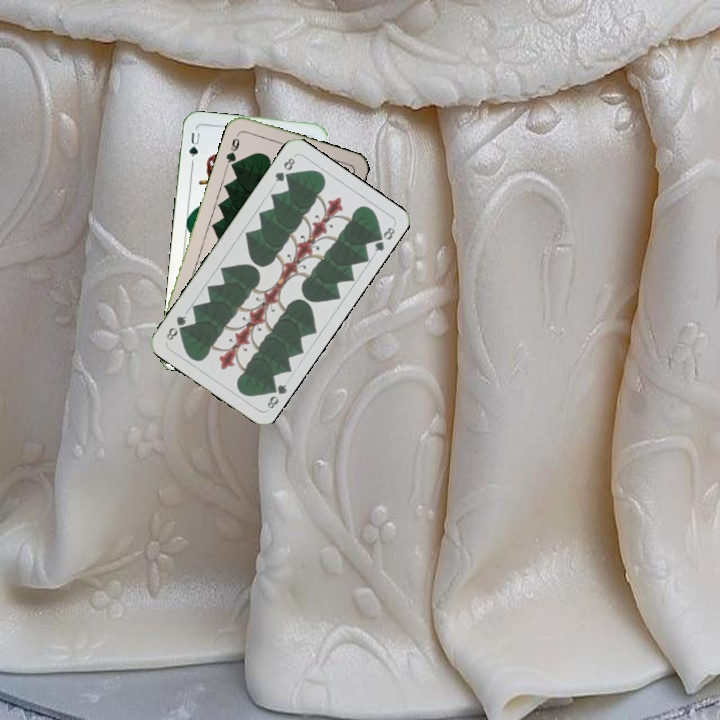G8: (271, 153, 298, 184), (263, 379, 289, 411)
G9: (222, 129, 243, 170)
GU: (185, 128, 202, 160)
